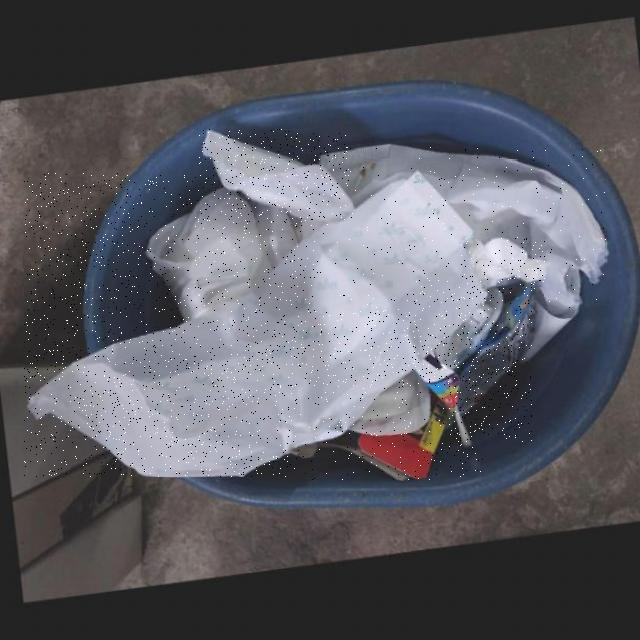paper: (25, 173, 483, 477), (316, 143, 606, 310), (143, 186, 298, 320), (198, 129, 353, 224), (298, 387, 449, 480), (461, 236, 546, 286)
wrapper: (414, 280, 532, 445)
